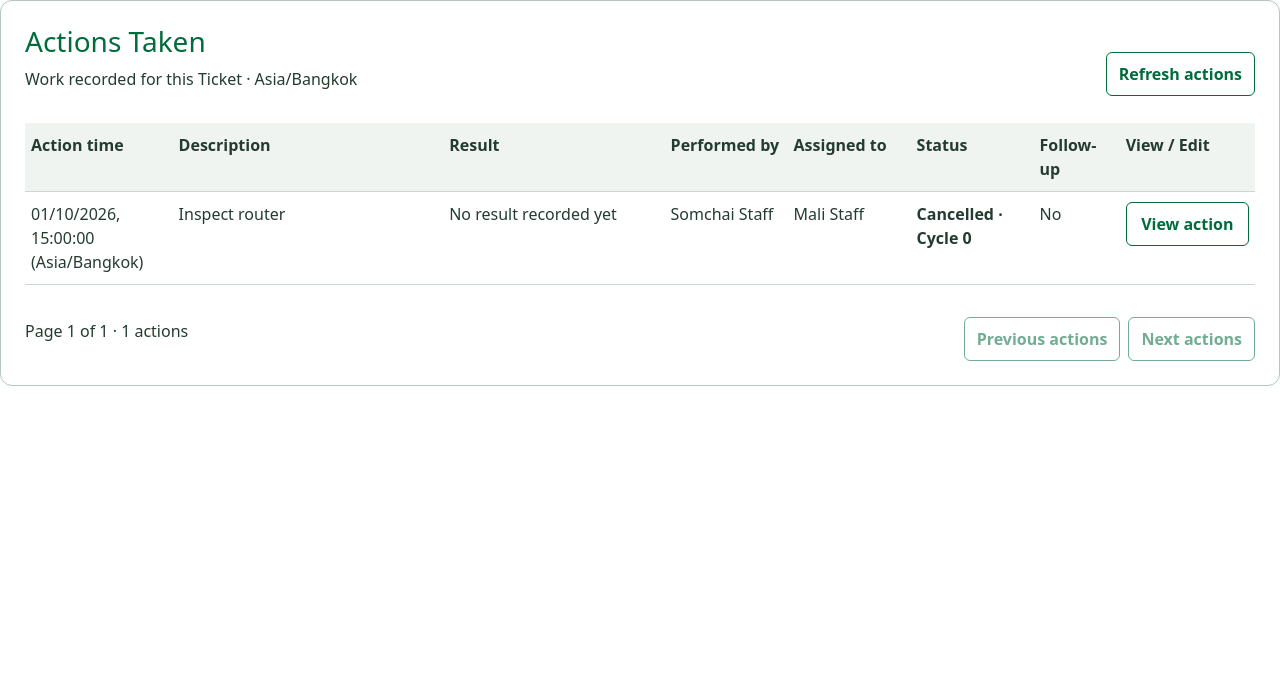
it: Actions Taken role and lifecycle permissions (UI-02) › shows every Requester action read-only, including cancelled and earlier cycles
The image size is (1280, 696).
Click the button with aria-label "View action:" at (1187, 224), box [1126, 202, 1249, 246]
(page scrolled)
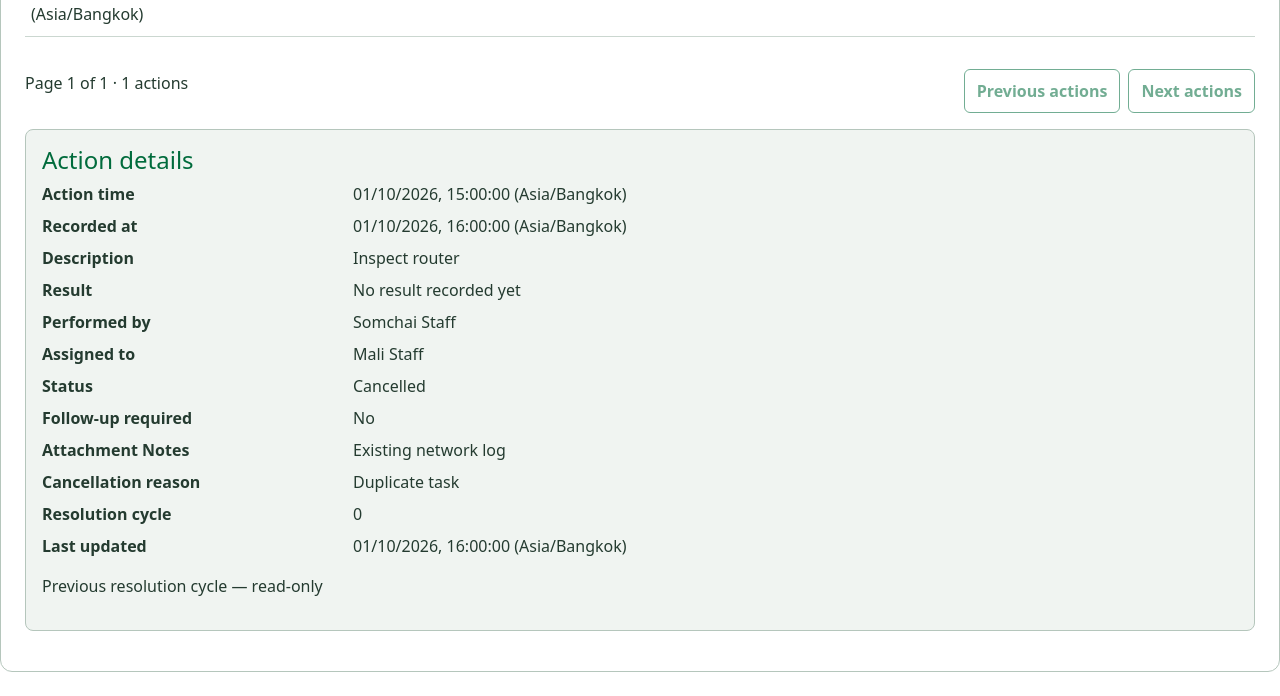
Expected: the text "Previous resolution cycle — read-only" is shown, [42, 575, 323, 597]
Expected: the text "Duplicate task" is shown, [353, 471, 459, 493]
